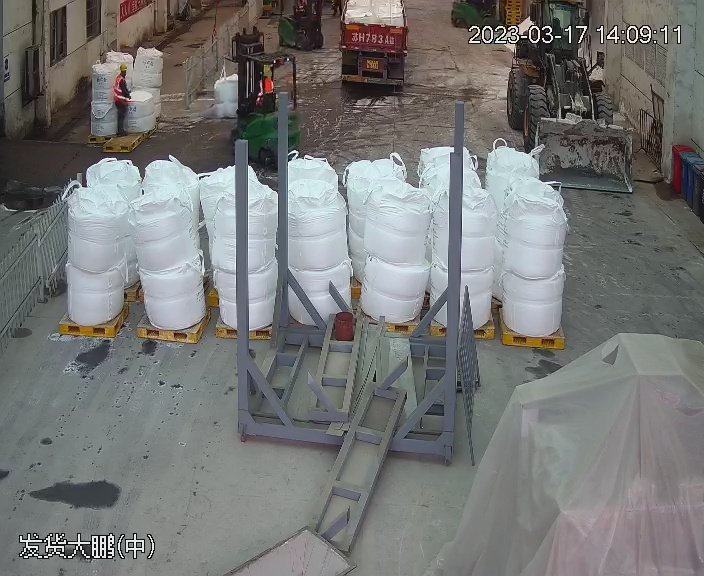head: (113, 61, 131, 91)
helmet: (117, 62, 129, 72)
people: (108, 58, 137, 140)
truck: (334, 0, 410, 84)
